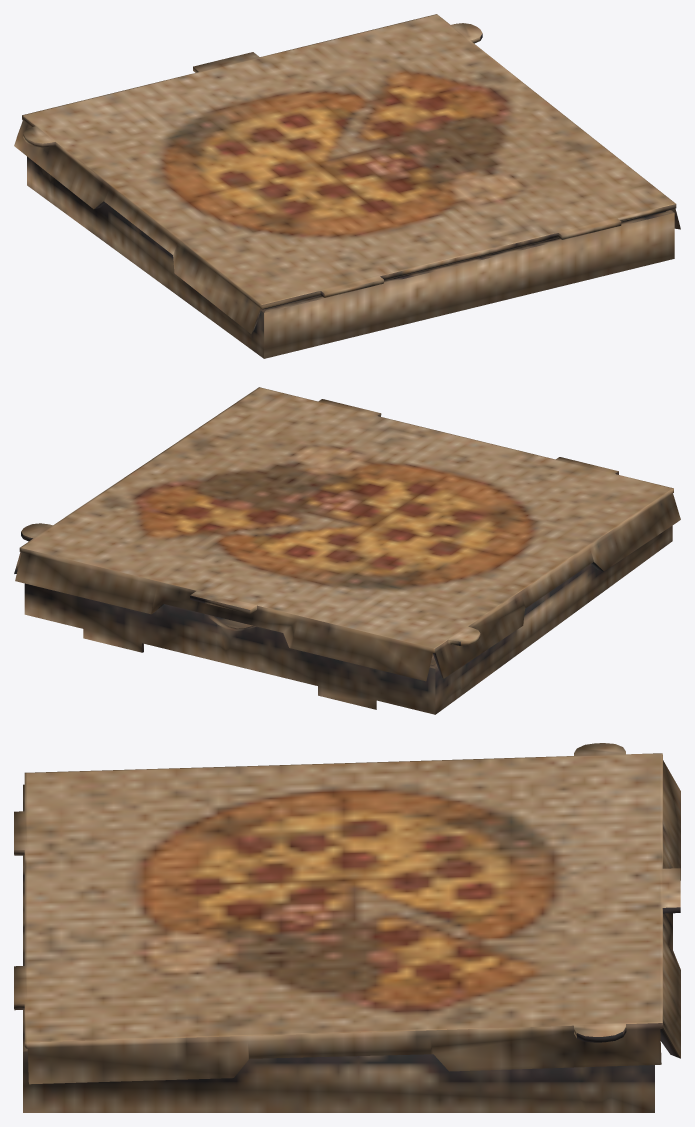
File: pizzabox.fbx
The picture shows the model from 3 angles, top to bottom: view 1: azimuth 30°, elevation 25°; view 2: azimuth 150°, elevation 25°; view 3: azimuth 270°, elevation 25°; orthographic projection. The views are drawn at different scales.
Visible parts, largest first — view 1: Pizza-Lid, Pizza-Bottom; view 2: Pizza-Lid, Pizza-Bottom; view 3: Pizza-Lid, Pizza-Bottom.
Part boxes in pixels (box(x1,y1,x2,y2)): Pizza-Lid: box(14, 14, 680, 334); Pizza-Bottom: box(27, 156, 674, 358); Pizza-Lid: box(14, 387, 680, 681); Pizza-Bottom: box(24, 525, 672, 714); Pizza-Lid: box(14, 743, 680, 1084); Pizza-Bottom: box(23, 784, 654, 1112).
Size of the model in its own units: 220 by 36.49 by 211.
Materials: 2 (2 with a texture image).
